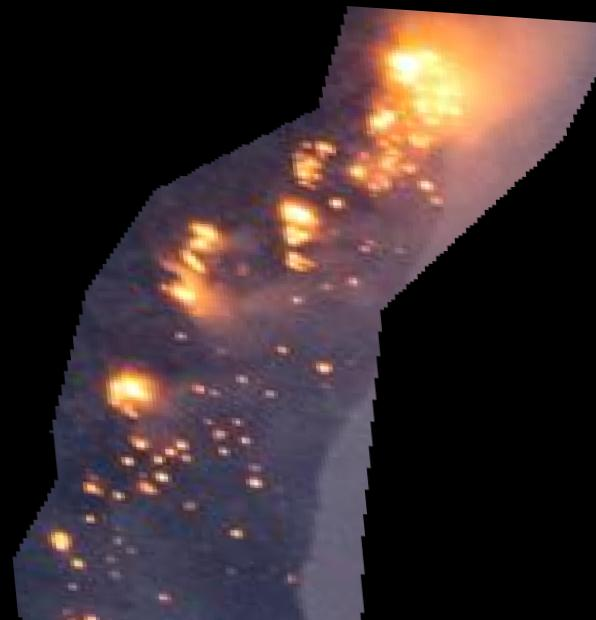fire: (0, 1, 596, 620)
